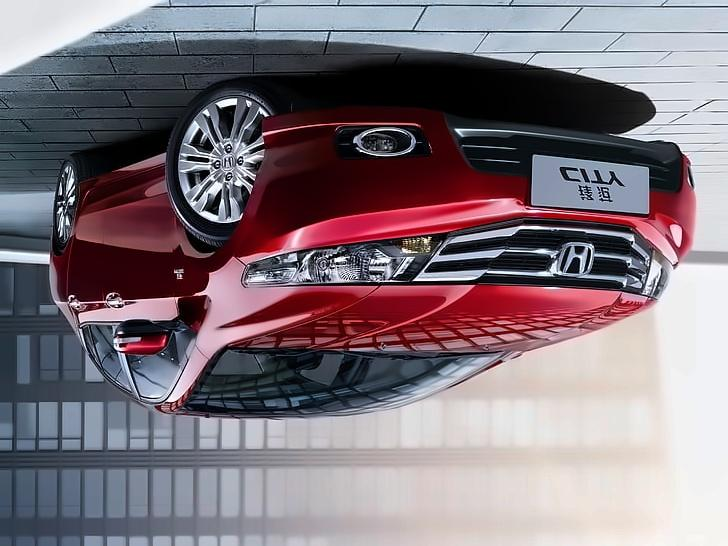Car hood: (226, 280, 659, 363)
Fender - -F-L-: (140, 106, 270, 365)
Front bumper: (228, 98, 707, 277)
Headlight - -L-: (239, 232, 445, 292)
Headlight - -R-: (640, 250, 680, 303)
Passenger-s door - -F-L-: (93, 131, 208, 414)
Passenger-s door - -R-L-: (56, 133, 138, 420)
Side bumper - -L-: (73, 126, 166, 224)
Side mirror - -L-: (111, 313, 180, 356)
